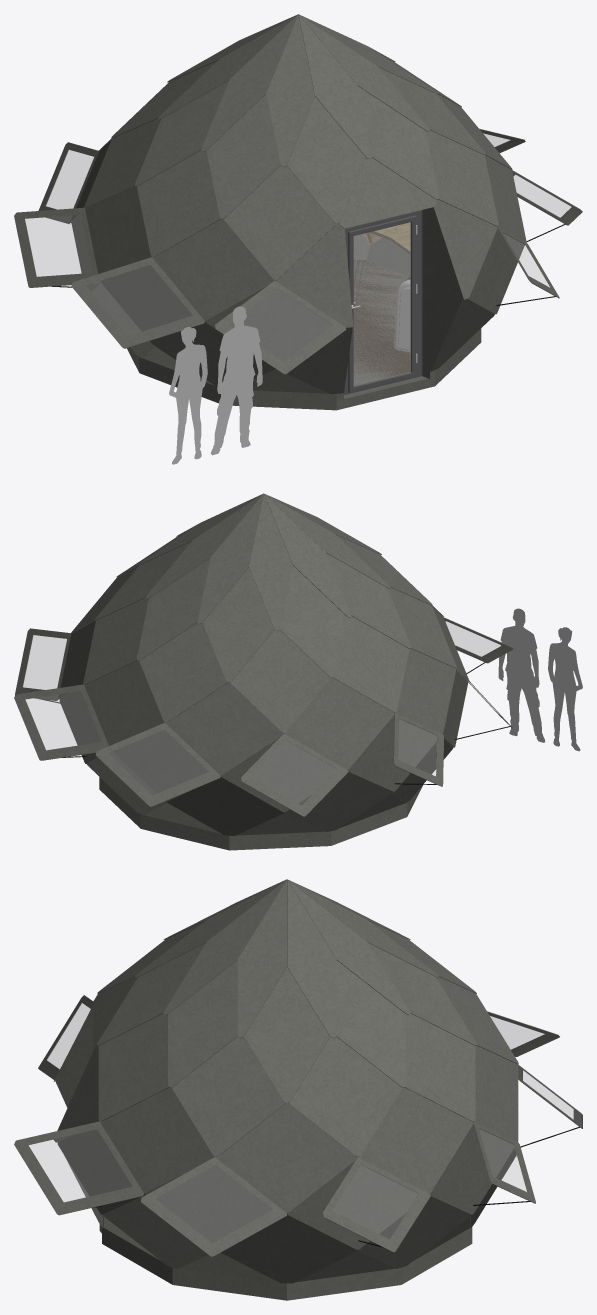
File: zomes-pod3-draco.glb
3 views of the same model, one above another, from view 1: azimuth 30°, elevation 25°; view 2: azimuth 150°, elevation 25°; view 3: azimuth 270°, elevation 25° (orthographic). The views are drawn at different scales.
Parts seen in each view (by area): view 1: entry-L1-center, door, man, window-glass-C-2.001, foundation, window-glass-C-1.001, window-glass-C-3.001, panel-L3-D-1, panel-L3-F-1, panel-L3-E-1, panel-L3-E-2, panel-L3-F-2 (+34 smaller); view 2: entry-L1-center, window-glass-C-5.001, man, window-glass-C-6.001, window-glass-C-4.001, panel-L3-E-4, panel-L3-F-5, panel-L3-E-5, panel-L3-F-4, panel-L3-D-4, panel-L3-D-3, panel-L3-F-6 (+39 smaller); view 3: entry-L1-center, window-glass-C-8.001, window-glass-C-9.001, window-glass-C-7.001, panel-L3-D-7, panel-L3-E-8, panel-L3-E-7, panel-L3-F-8, panel-L3-D-8, panel-L3-D-6, panel-L3-F-7, panel-L3-E-6 (+37 smaller).
Boxes of the visible parts, x1=… form: entry-L1-center: x1=91, y1=157, x2=497, y2=400; door: x1=344, y1=211, x2=421, y2=394; man: x1=169, y1=306, x2=262, y2=464; window-glass-C-2.001: x1=71, y1=257, x2=204, y2=348; foundation: x1=127, y1=260, x2=481, y2=410; window-glass-C-1.001: x1=215, y1=280, x2=346, y2=374; window-glass-C-3.001: x1=14, y1=207, x2=99, y2=287; panel-L3-D-1: x1=165, y1=219, x2=271, y2=319; panel-L3-F-1: x1=287, y1=96, x2=365, y2=223; panel-L3-E-1: x1=234, y1=165, x2=326, y2=265; panel-L3-E-2: x1=138, y1=150, x2=219, y2=243; panel-L3-F-2: x1=207, y1=94, x2=280, y2=217; entry-L1-center: x1=87, y1=738, x2=453, y2=841; window-glass-C-5.001: x1=95, y1=722, x2=220, y2=806; man: x1=498, y1=608, x2=582, y2=751; window-glass-C-6.001: x1=14, y1=684, x2=108, y2=760; window-glass-C-4.001: x1=240, y1=733, x2=348, y2=816; panel-L3-E-4: x1=230, y1=630, x2=321, y2=731; panel-L3-F-5: x1=203, y1=571, x2=274, y2=682; panel-L3-E-5: x1=140, y1=624, x2=226, y2=709; panel-L3-F-4: x1=280, y1=566, x2=346, y2=676; panel-L3-D-4: x1=177, y1=687, x2=272, y2=762; panel-L3-D-3: x1=294, y1=678, x2=383, y2=757; panel-L3-F-6: x1=137, y1=562, x2=208, y2=659; entry-L1-center: x1=53, y1=977, x2=516, y2=1290; window-glass-C-8.001: x1=141, y1=1157, x2=286, y2=1256; window-glass-C-9.001: x1=14, y1=1121, x2=144, y2=1215; window-glass-C-7.001: x1=322, y1=1157, x2=430, y2=1252; panel-L3-D-7: x1=229, y1=1103, x2=344, y2=1211; panel-L3-E-8: x1=173, y1=1036, x2=283, y2=1141; panel-L3-E-7: x1=290, y1=1036, x2=391, y2=1141; panel-L3-F-8: x1=244, y1=972, x2=329, y2=1102; panel-L3-D-8: x1=103, y1=1087, x2=205, y2=1178; panel-L3-D-6: x1=369, y1=1087, x2=461, y2=1192; panel-L3-F-7: x1=336, y1=960, x2=405, y2=1086; panel-L3-E-6: x1=406, y1=1013, x2=475, y2=1118.
Size of the model in its own units: 6.29 by 3.93 by 5.98.
Materials: 20 (8 with a texture image).
